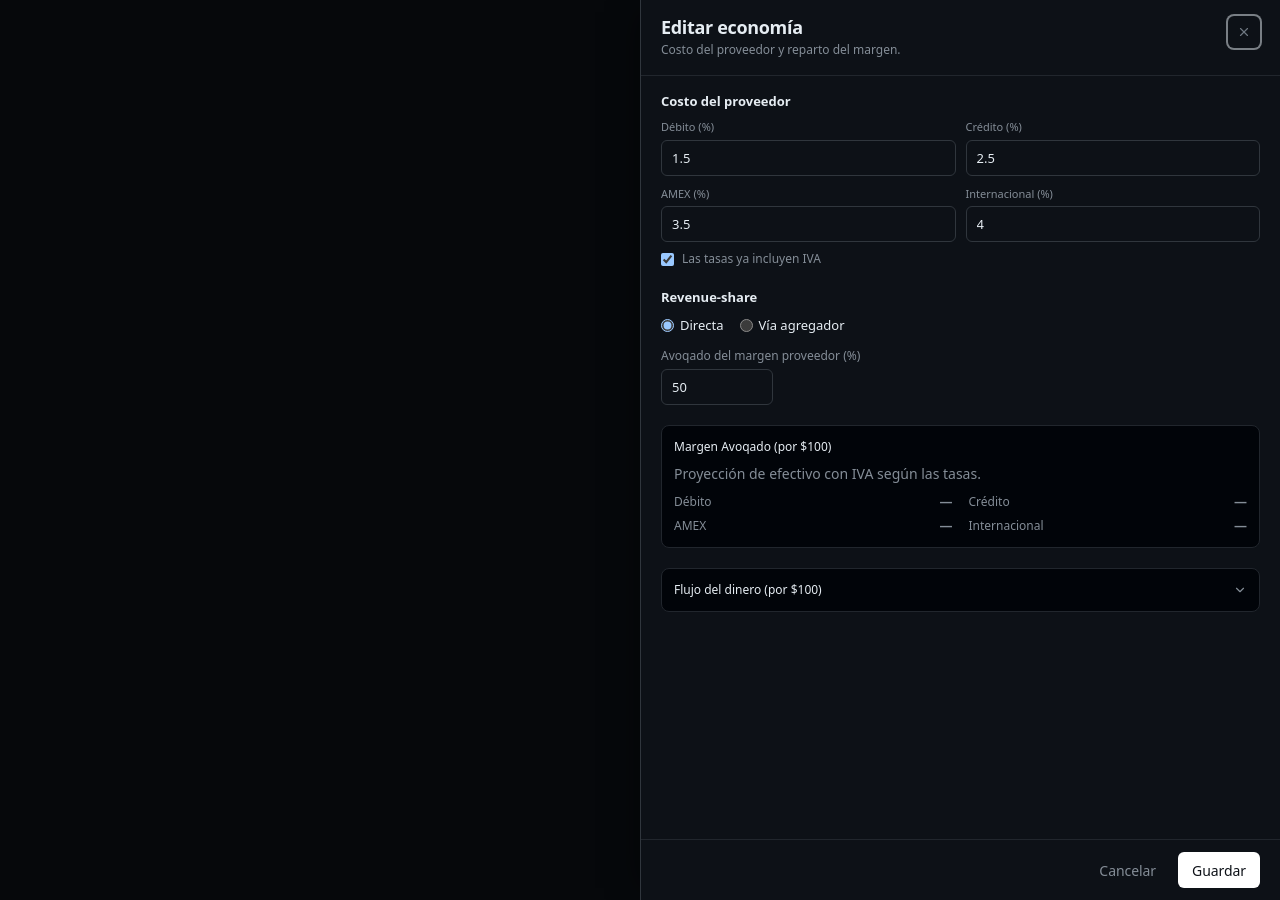
Test case: EditEconomicsDrawer › en modo agregador aclara qué es el "Precio al agregador"
Note: Arranca en "Directa" (aggregatorPrice null) → cambiar a "Vía agregador".
What coordinates should you click on to do the following:
click the radio button labelled "Vía agregador"
I would click on:
 (746, 325)
Its box is [740,319,752,332].
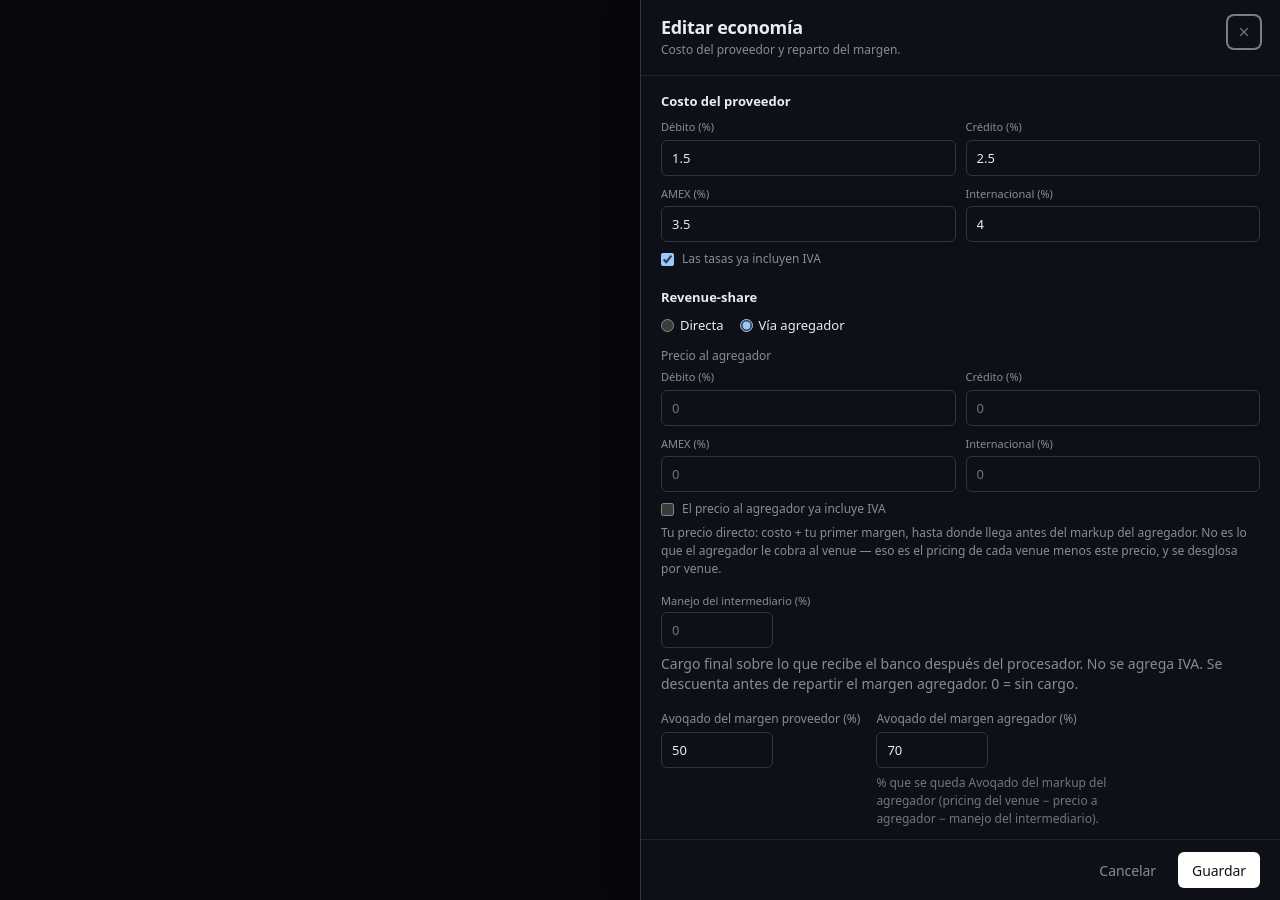
Now the text "se queda Avoqado del markup del agregador" is shown, box [876,774,1106,827]
Now the checkbox labelled "El precio al agregador ya incluye IVA" is shown, box [661,502,674,516]
